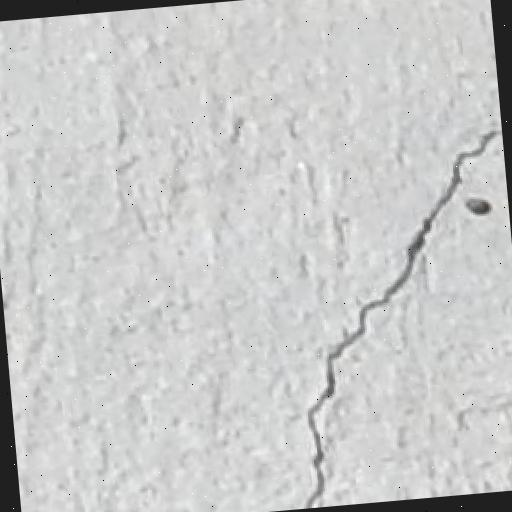spalling: (289, 122, 498, 495)
